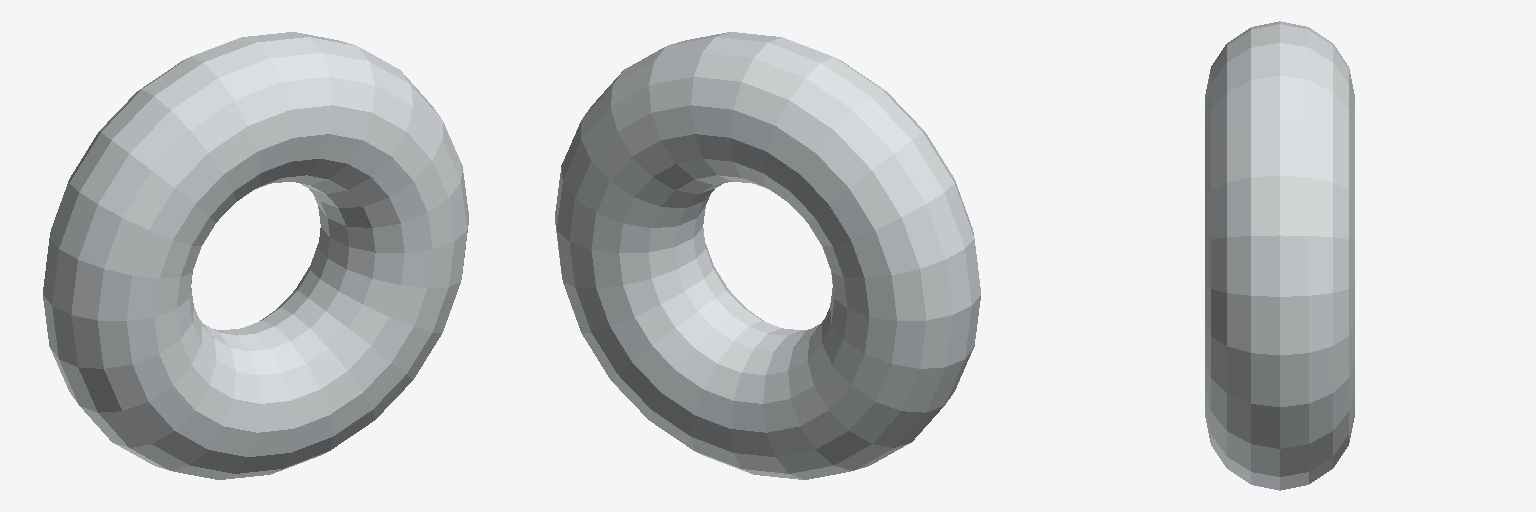
File: tinker.obj
The picture shows the model from 3 angles: view 1: azimuth 30°, elevation 25°; view 2: azimuth 150°, elevation 25°; view 3: azimuth 270°, elevation 25°; orthographic projection.
Visible parts, largest first — view 1: obj_0; view 2: obj_0; view 3: obj_0.
Part boxes in pixels (x1,y1,x2,y2): obj_0: (43, 32, 468, 479); obj_0: (555, 32, 980, 479); obj_0: (1205, 21, 1354, 490).
Size of the model in its own units: 187 by 187 by 59.5.